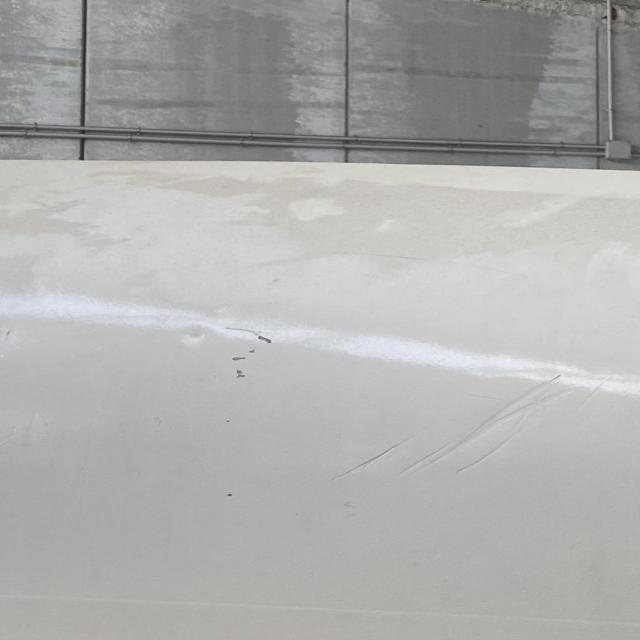Dent: (165, 325, 214, 347)
Paint-off: (241, 343, 267, 362), (227, 350, 253, 367), (230, 367, 248, 384), (223, 491, 238, 502)
Scratch: (328, 369, 597, 483), (221, 324, 272, 344)
